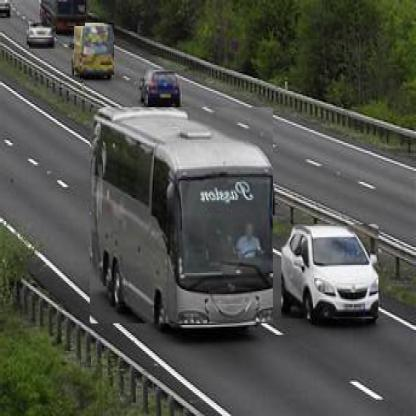bus: (89, 108, 274, 326)
car: (282, 225, 380, 321), (74, 24, 115, 77), (144, 63, 182, 110), (43, 3, 86, 29), (29, 26, 57, 52)
